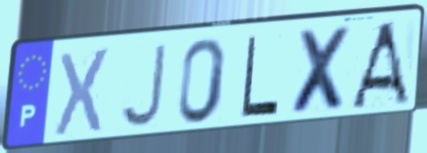0: (177, 37, 230, 127)
A: (348, 19, 412, 111)
J: (117, 42, 169, 131)
L: (238, 33, 281, 120)
X: (288, 24, 356, 117), (51, 45, 112, 140)
